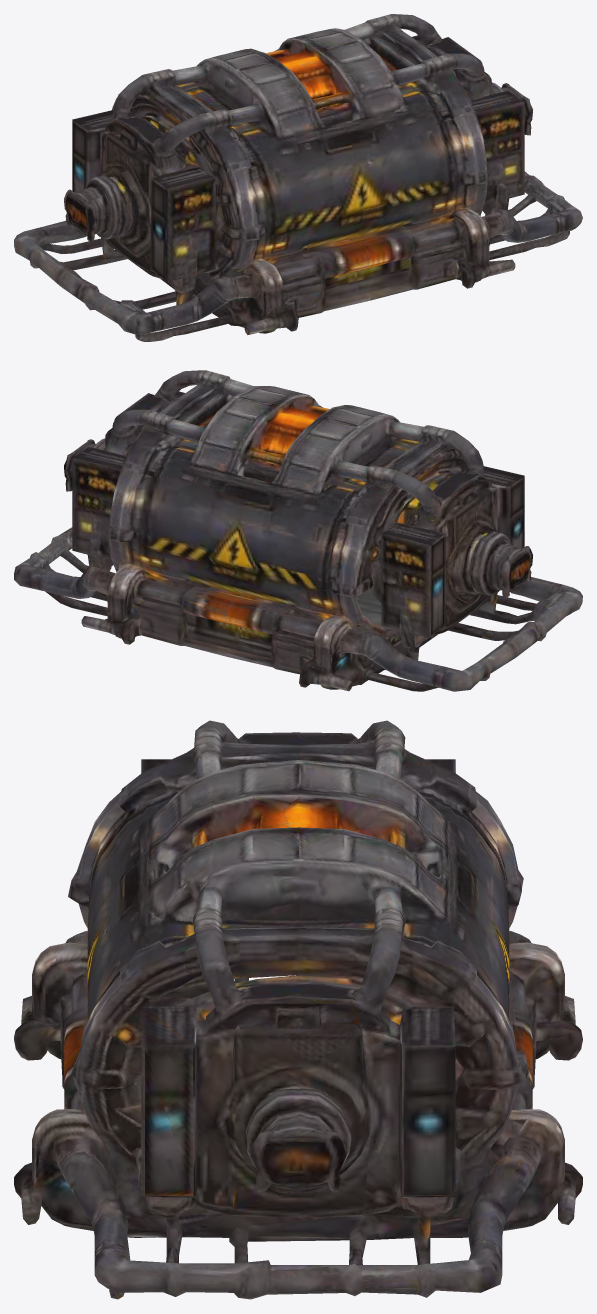
Rendered from zone-generator.glb.
3 renders of one model, top to bottom at view 1: azimuth 30°, elevation 25°; view 2: azimuth 150°, elevation 25°; view 3: azimuth 270°, elevation 25°, orthographic. The views are drawn at different scales.
Size of the model in its own units: 1.91 by 0.7945 by 1.24.
Materials: 1 (1 with a texture image).
